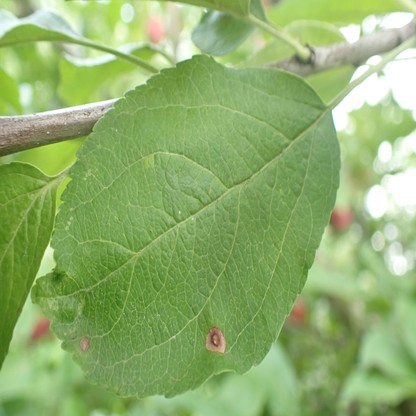frogeye_leaf_spot: (205, 326, 226, 353), (79, 335, 89, 352)
powdery_mildew: (58, 317, 80, 335)
scab: (143, 154, 153, 167)
